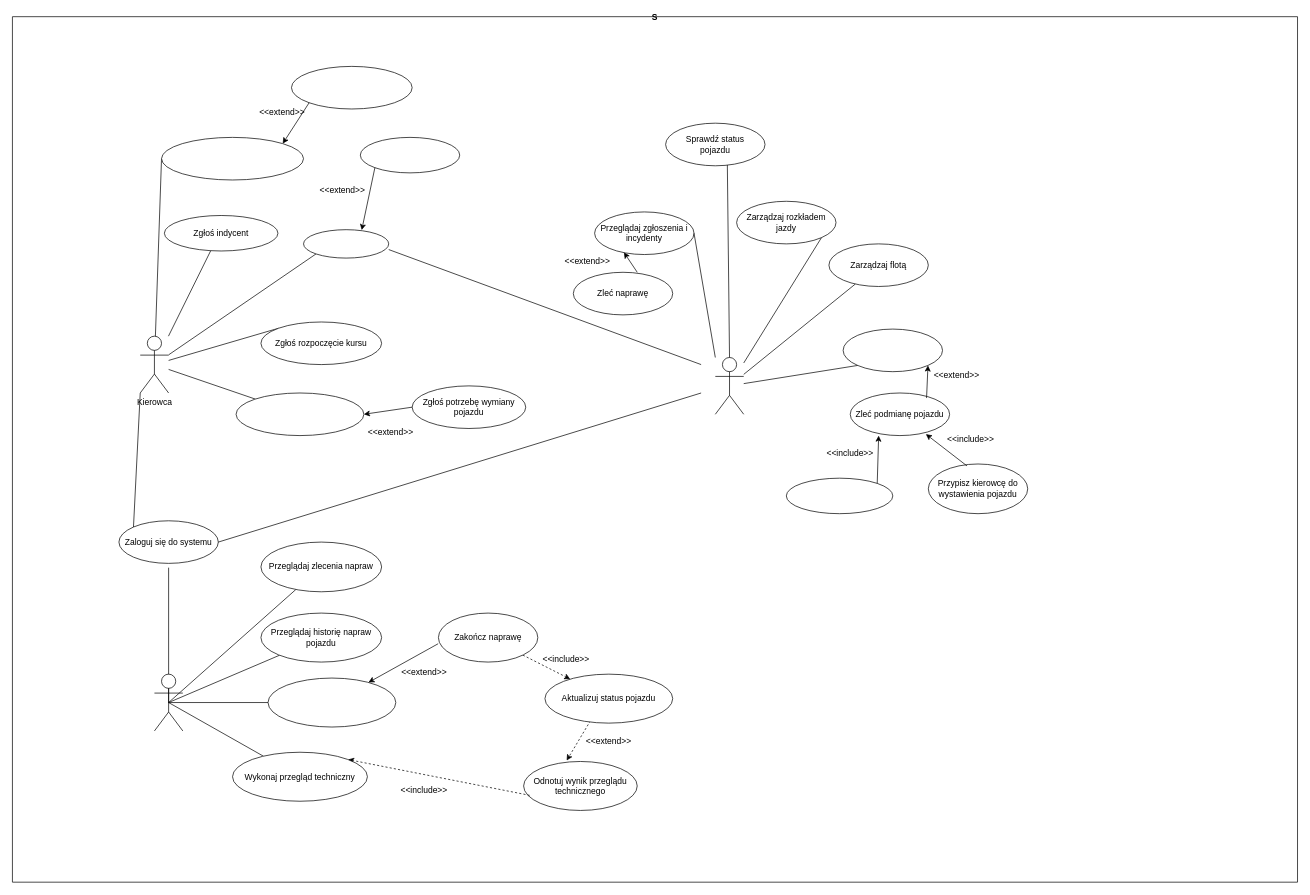
Image size: 1310x895. Some labels were removed from this diagram. The centre of each missing label's shape, as x and y in pixels:
"Aktualizuj przebieg naprawy" goes at pixel 331 702.
"Dyspozytor" goes at pixel 729 385.
"Mechanik" goes at pixel 168 702.
"Monitoruj realizacje kursów" goes at pixel 892 350.
"Przypisz pojazd na zamianę" goes at pixel 839 495.
"Sprawdź przypisany pojazd" goes at pixel 410 155.
"Sprawdź rozkład jazdy" goes at pixel 346 243.
"Zgłoś usterkę krytyczną" goes at pixel 299 414.
"Zgłoś usterkę pojazdu (niekrytyczną)" goes at pixel 351 87.
"Zgłoś zakończenie kursu" goes at pixel 232 158.
